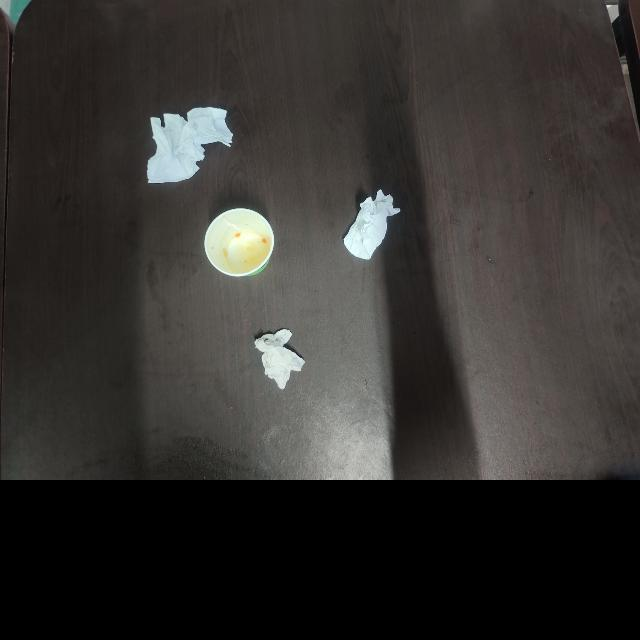kitchen paper: (141, 104, 237, 196), (340, 189, 405, 268), (245, 328, 310, 396)
